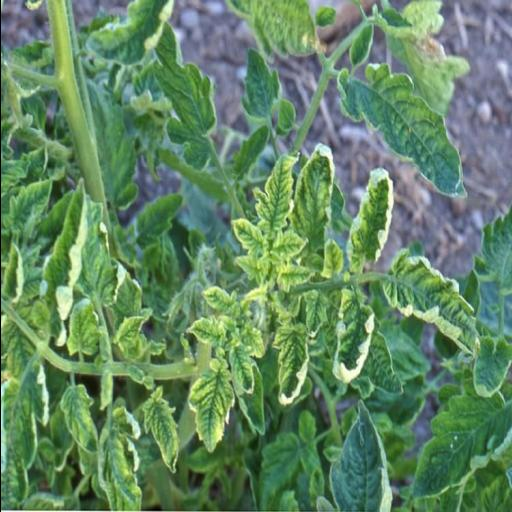Yellow Leaf Curl Virus: (382, 252, 480, 370), (339, 164, 395, 272), (93, 408, 144, 512), (186, 354, 236, 456), (256, 149, 300, 241), (334, 292, 374, 387), (139, 391, 179, 479), (272, 322, 308, 408), (64, 296, 102, 362), (110, 314, 146, 358), (228, 216, 265, 258), (270, 224, 308, 264)
